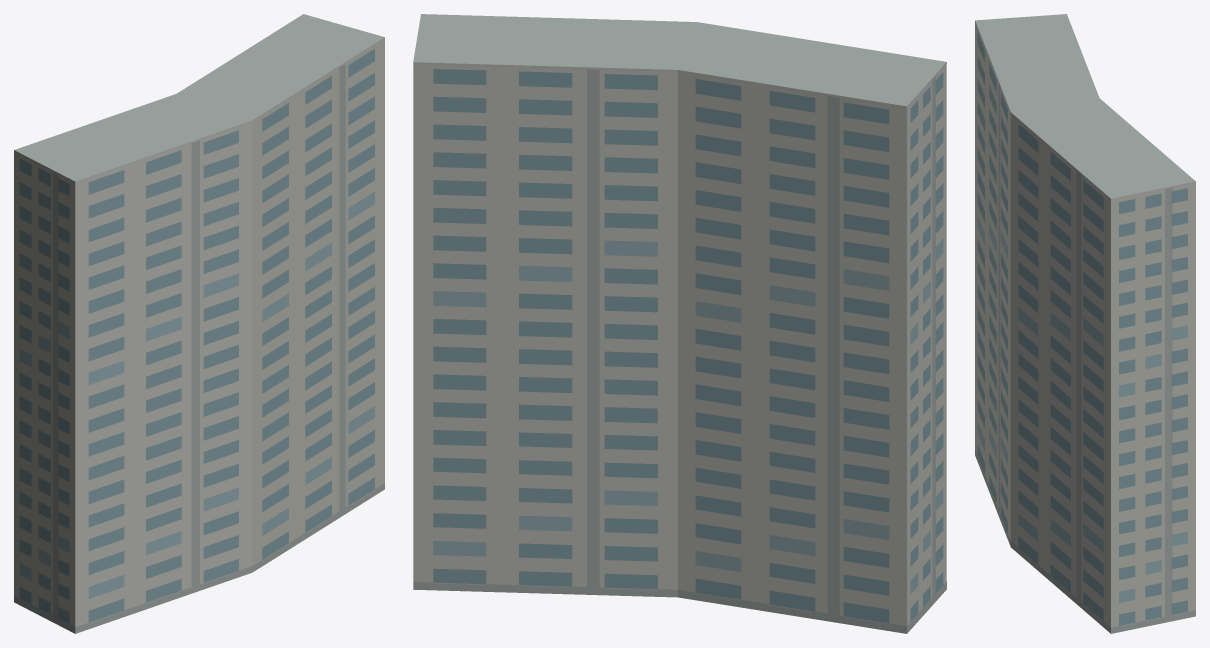
Rendered from residential-d0e97d47-bc94-4320-9eaf-b3fd7455b2e9.glb.
The picture shows the model from 3 angles, left to right: view 1: azimuth 30°, elevation 25°; view 2: azimuth 150°, elevation 25°; view 3: azimuth 270°, elevation 25°; orthographic projection. The views are drawn at different scales.
Visible parts, largest first — view 1: residential-d0e97d47-bc94-4320-9eaf-b3fd7455b2e9.tmp; view 2: residential-d0e97d47-bc94-4320-9eaf-b3fd7455b2e9.tmp; view 3: residential-d0e97d47-bc94-4320-9eaf-b3fd7455b2e9.tmp.
Boxes of the visible parts, x1,y1,x2,y2 form: residential-d0e97d47-bc94-4320-9eaf-b3fd7455b2e9.tmp: [14, 14, 384, 633]; residential-d0e97d47-bc94-4320-9eaf-b3fd7455b2e9.tmp: [413, 14, 946, 633]; residential-d0e97d47-bc94-4320-9eaf-b3fd7455b2e9.tmp: [975, 14, 1195, 633].
Bounding box in the file's own units: 50.11 × 55 × 25.29.
